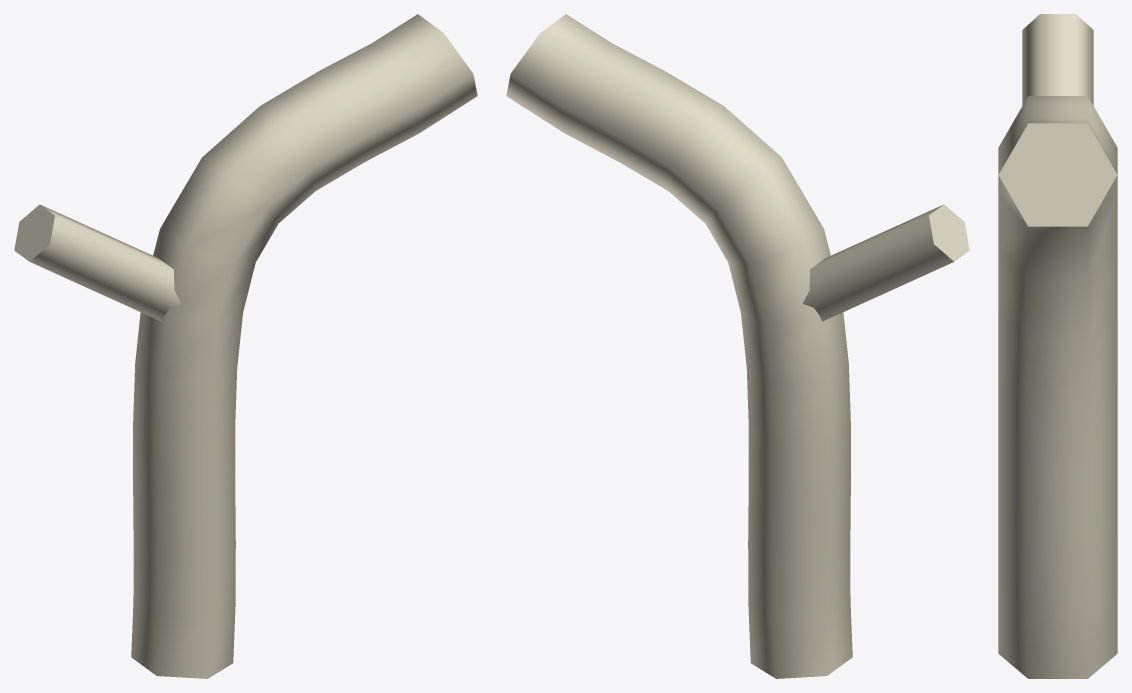
File: primitive-crafting-workshop-antler-pick-2cf69044__21545.glb
3 renders of one model, left to right at view 1: azimuth 30°, elevation 25°; view 2: azimuth 150°, elevation 25°; view 3: azimuth 270°, elevation 25°, orthographic. The views are drawn at different scales.
Parts seen in each view (by area): view 1: antler-pick; view 2: antler-pick; view 3: antler-pick.
Part boxes in pixels (x1,y1,x2,y2): antler-pick: (14,14,477,678); antler-pick: (506,14,969,678); antler-pick: (998,14,1117,678).
Size of the model in its own units: 0.3003 by 0.3752 by 0.06.
